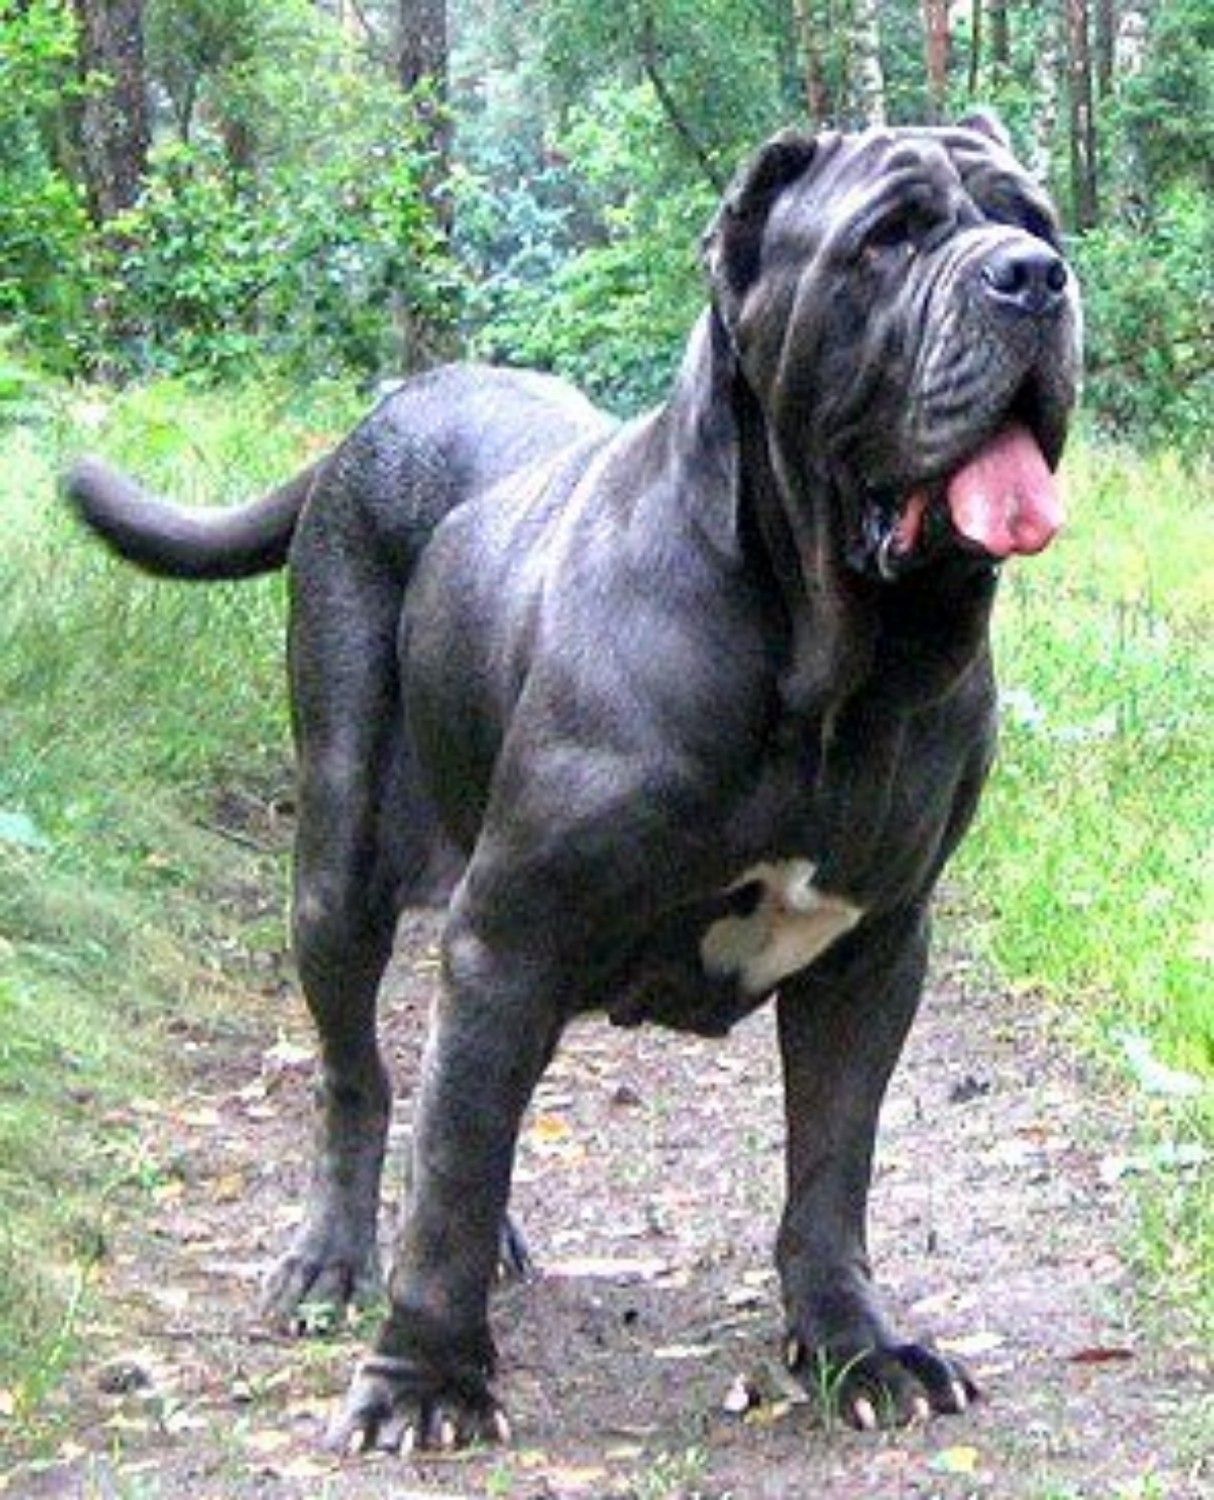neapolitan_mastiff: (43, 104, 1086, 1462)
